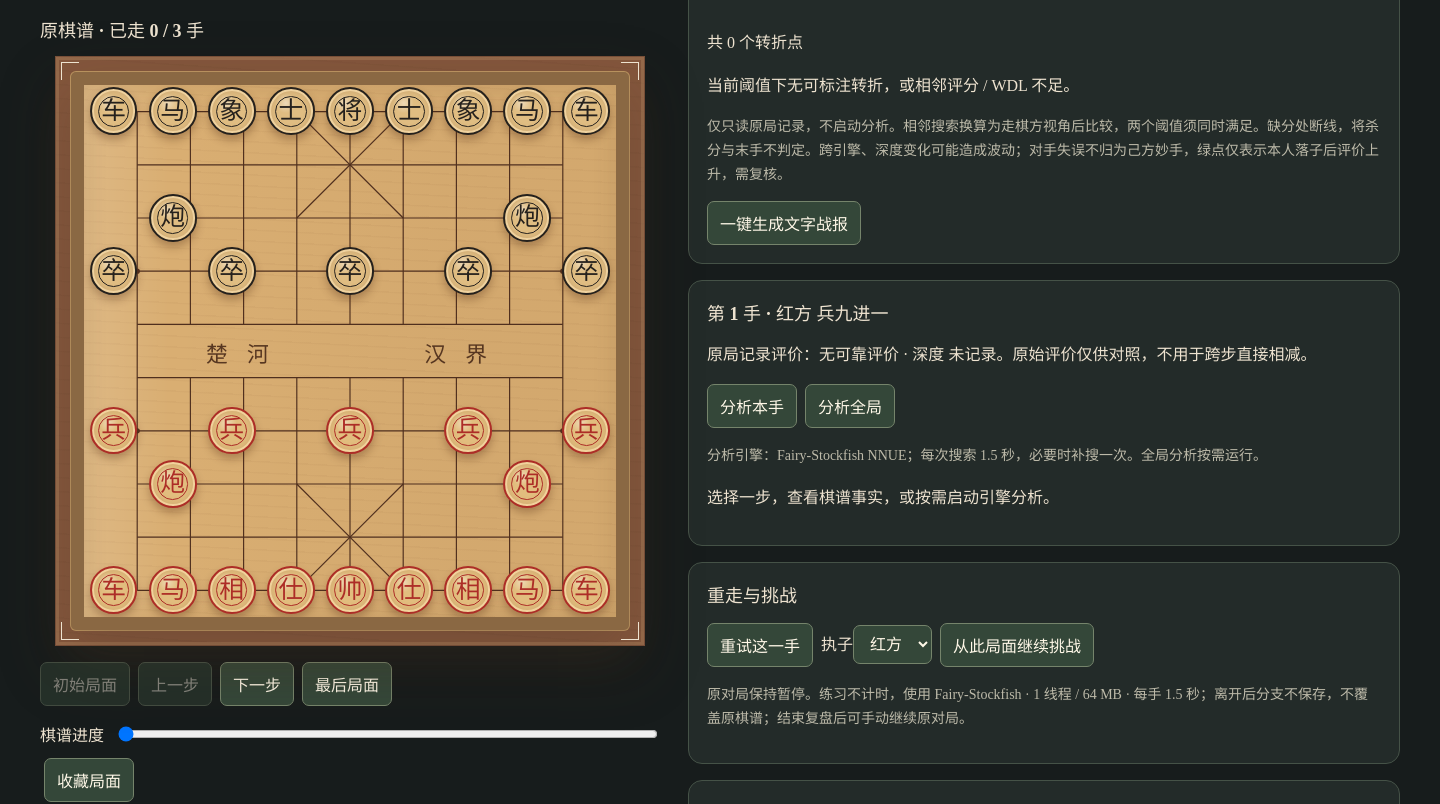
Test case: 搜索故障后可重新初始化并重试，原谱仍可用
(page scrolled)
Click the button "分析本手". click: (752, 406)
box: [707,384,797,428]
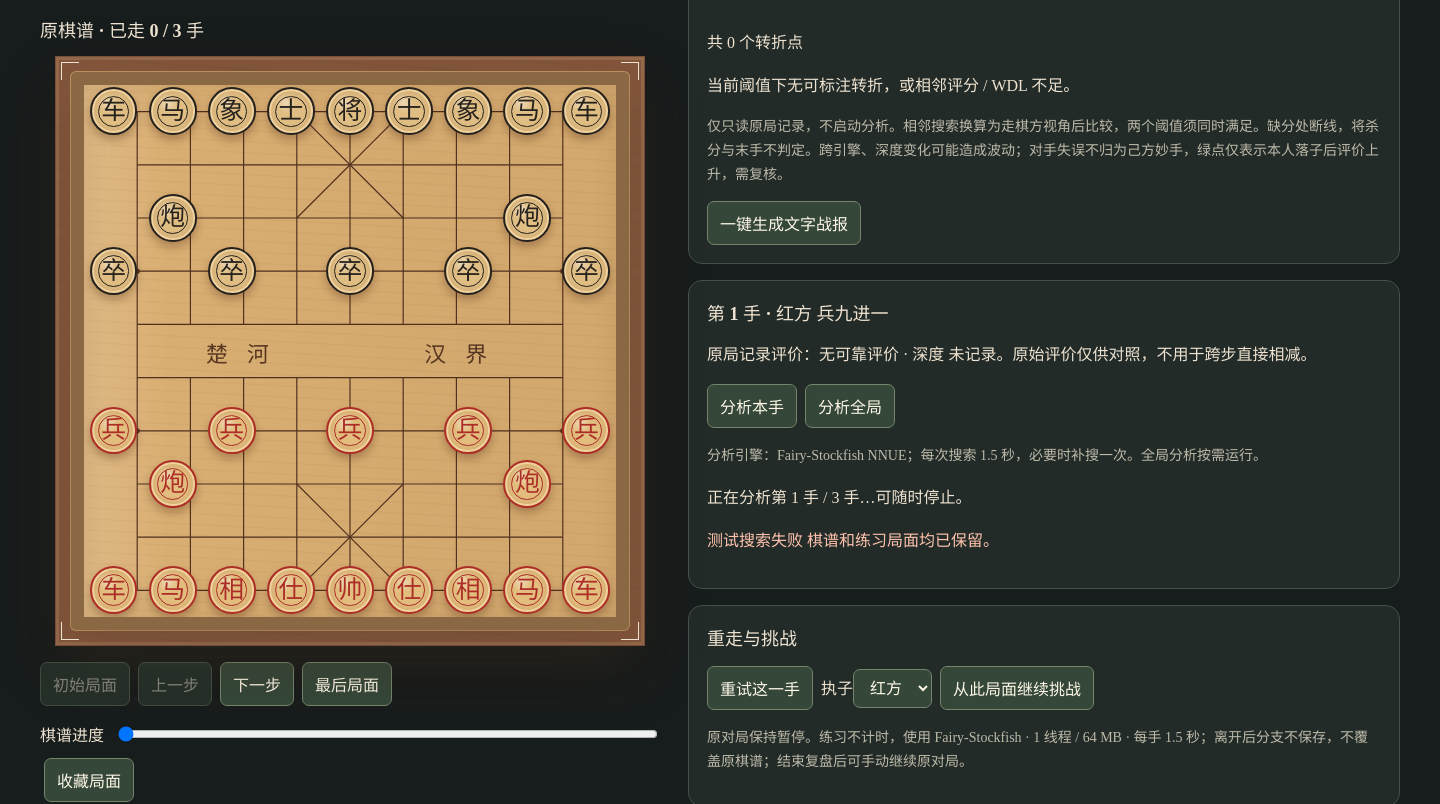
Check: the message "测试搜索失败 棋谱和练习局面均已保留。" is shown, box [707,532,999,549]
Click the button "分析本手". click: (752, 406)
box: [707,384,797,428]
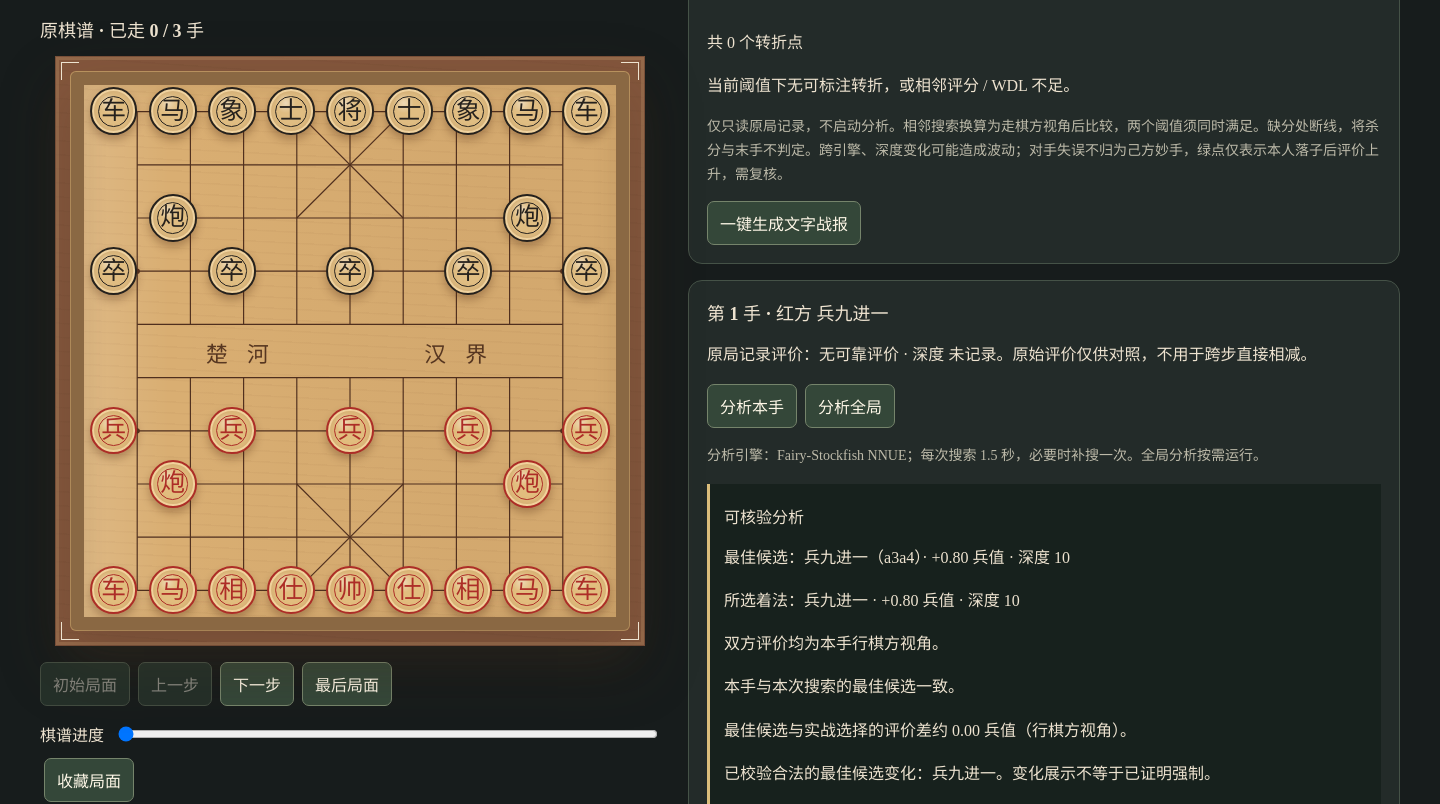
Check: the heading "可核验分析" is shown, box [724,509,804,526]
